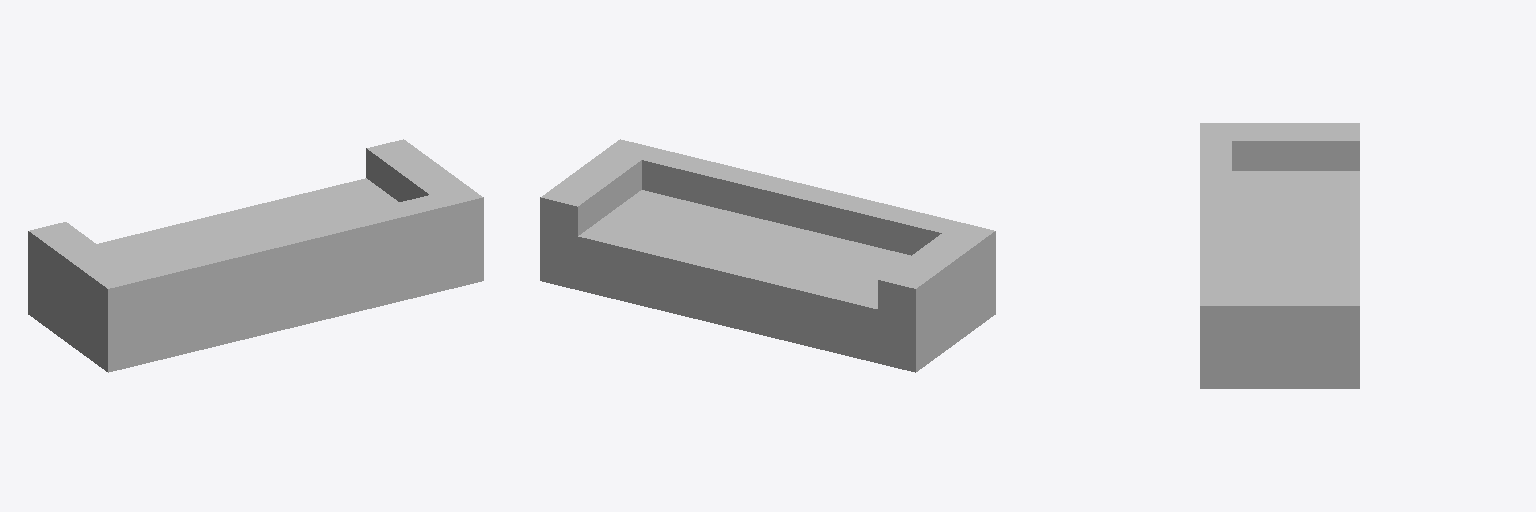
Rendered from sofa.obj.
The picture shows the model from 3 angles: view 1: azimuth 30°, elevation 25°; view 2: azimuth 150°, elevation 25°; view 3: azimuth 270°, elevation 25°; orthographic projection.
Visible parts, largest first — view 1: pasted__pCube4 group3; view 2: pasted__pCube4 group3; view 3: pasted__pCube4 group3.
Part boxes in pixels (left/top/right/bottom): pasted__pCube4 group3: left=28, top=139, right=483, bottom=372; pasted__pCube4 group3: left=540, top=139, right=995, bottom=372; pasted__pCube4 group3: left=1200, top=123, right=1359, bottom=388.
Size of the model in its own units: 3.96 by 0.8435 by 1.45.